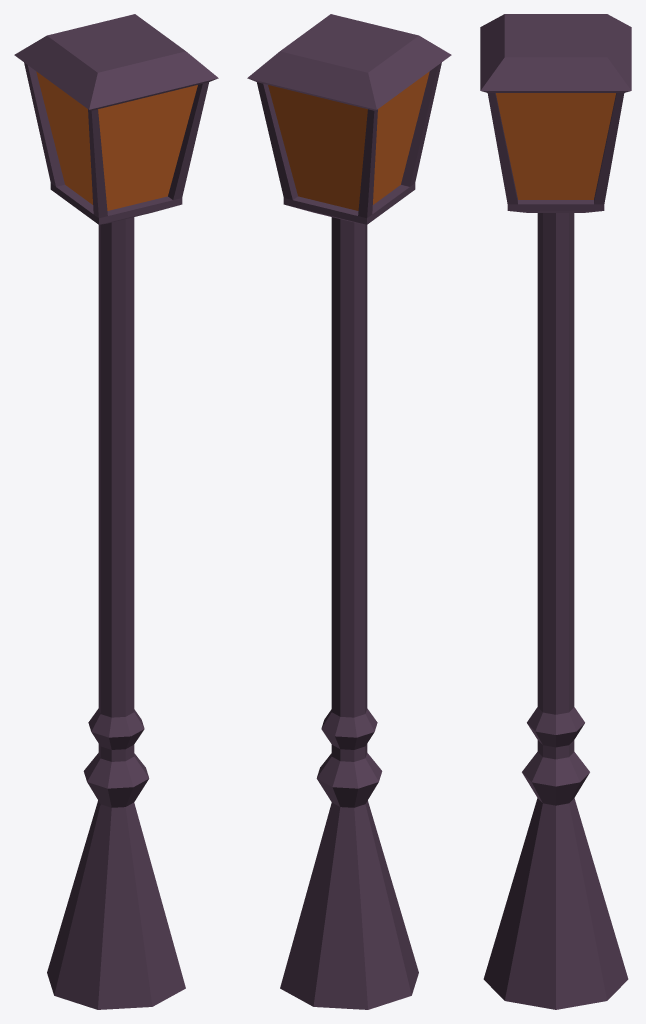
The model's file is lamp-post.obj.
3 renders of one model, left to right at view 1: azimuth 30°, elevation 25°; view 2: azimuth 150°, elevation 25°; view 3: azimuth 270°, elevation 25°, orthographic.
Parts seen in each view (by area): view 1: Post_Cylinder.001, Glass_Cylinder; view 2: Post_Cylinder.001, Glass_Cylinder; view 3: Post_Cylinder.001, Glass_Cylinder.
Part boxes in pixels (<box>): Post_Cylinder.001: <box>14,14,218,1009</box>; Glass_Cylinder: <box>36,71,197,210</box>; Post_Cylinder.001: <box>247,14,451,1009</box>; Glass_Cylinder: <box>268,71,429,210</box>; Post_Cylinder.001: <box>480,14,631,1009</box>; Glass_Cylinder: <box>496,93,615,199</box>.
Bounding box in the file's own units: 0.573 × 3.95 × 0.573.
2 materials, 1 textured.
